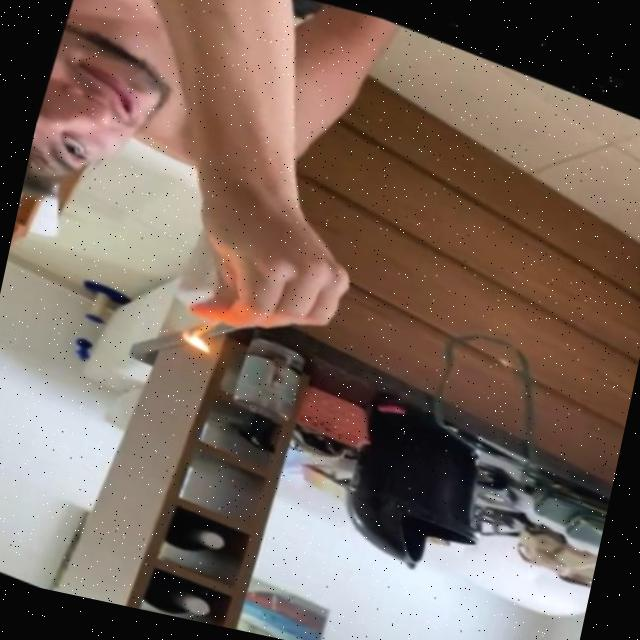fire: (170, 323, 214, 355)
